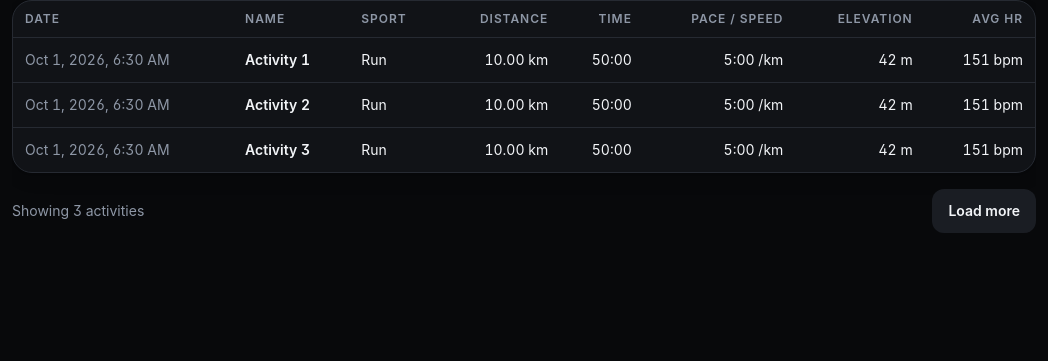
ActivityList › appends the next page without duplicates and stops at the end
Click the button "Load more".
click(984, 211)  # box x1=932 y1=189 x2=1036 y2=233
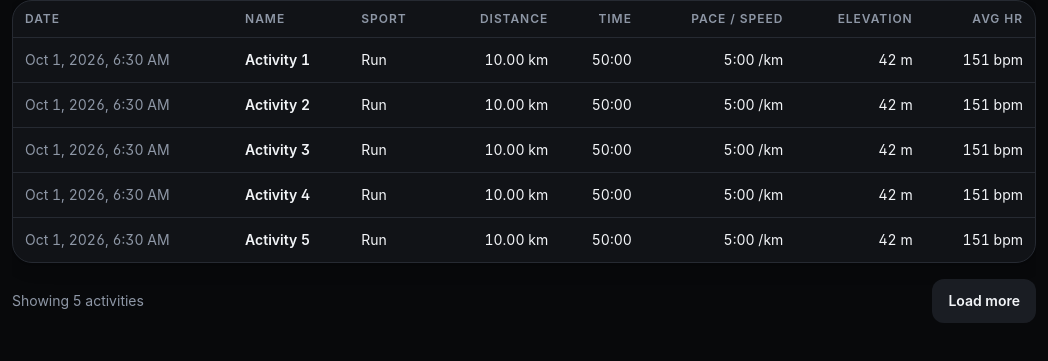
Expected: the text "Showing 5 activities" is shown, x1=12 y1=291 x2=144 y2=311
Click the button "Load more".
click(984, 301)  # box x1=932 y1=279 x2=1036 y2=323
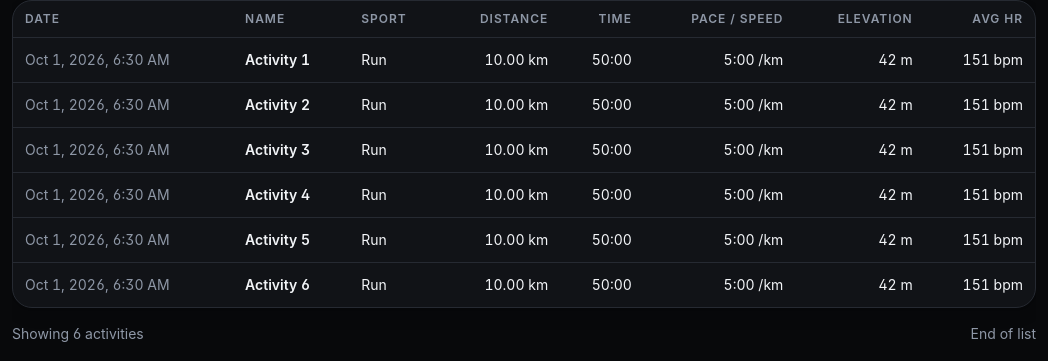
Expected: the text "End of list" is shown, x1=970 y1=324 x2=1036 y2=344
Expected: the button "Load more" is gone
